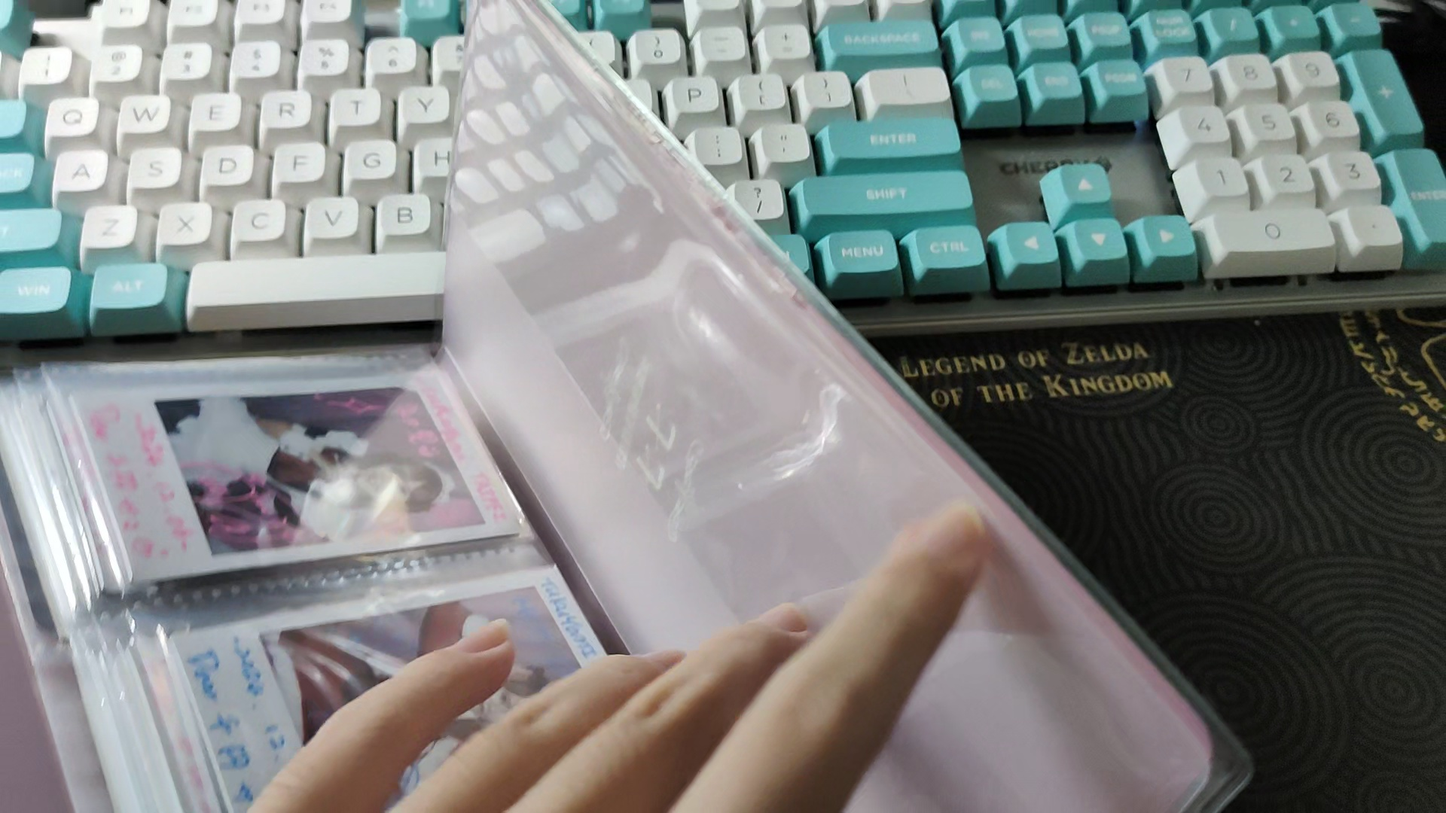Photo_book: (0, 0, 1255, 813)
